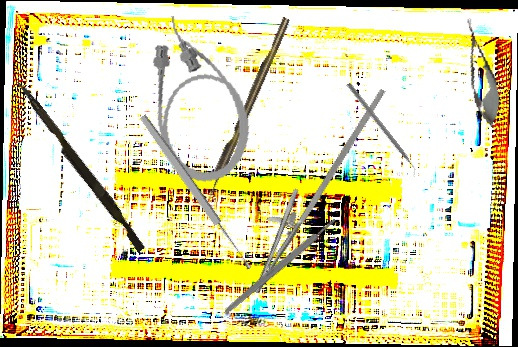Cannula: (140, 6, 258, 189)
Chopper: (341, 82, 421, 179)
Hook Surgical: (202, 16, 292, 202)
Micro Scissor: (454, 15, 508, 131)
Needle Holder: (236, 68, 387, 307)
Pusher: (9, 79, 150, 253)
Scalpel Handle: (223, 216, 338, 316)
Surgical Spoon: (138, 113, 254, 272)
